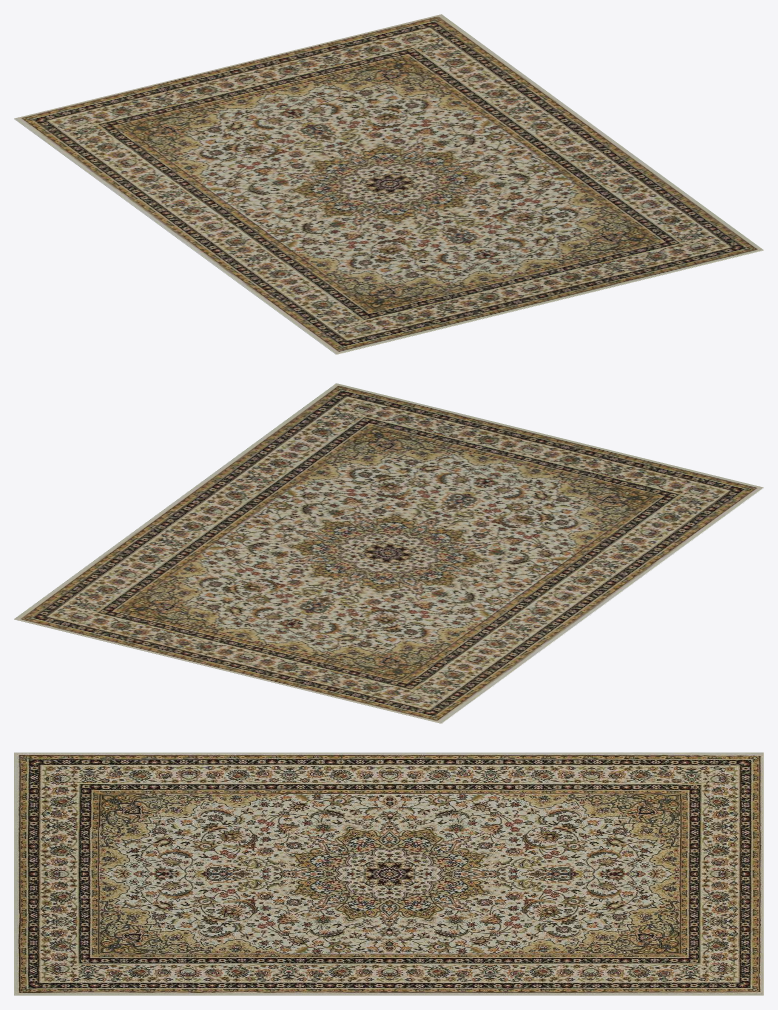
File: Rug_Rectangular_Base_10x13.glb
3 renders of one model, top to bottom at view 1: azimuth 30°, elevation 25°; view 2: azimuth 150°, elevation 25°; view 3: azimuth 270°, elevation 25°, orthographic. The views are drawn at different scales.
Visible parts, largest first — view 1: K119W1300390ST.001; view 2: K119W1300390ST.001; view 3: K119W1300390ST.001.
Boxes of the visible parts, x1,y1,x2,y2 form: K119W1300390ST.001: [14, 14, 763, 354]; K119W1300390ST.001: [14, 383, 763, 723]; K119W1300390ST.001: [14, 752, 763, 995].
Size of the model in its own units: 2.98 by 0.00266 by 3.89.
1 material, 1 textured.
